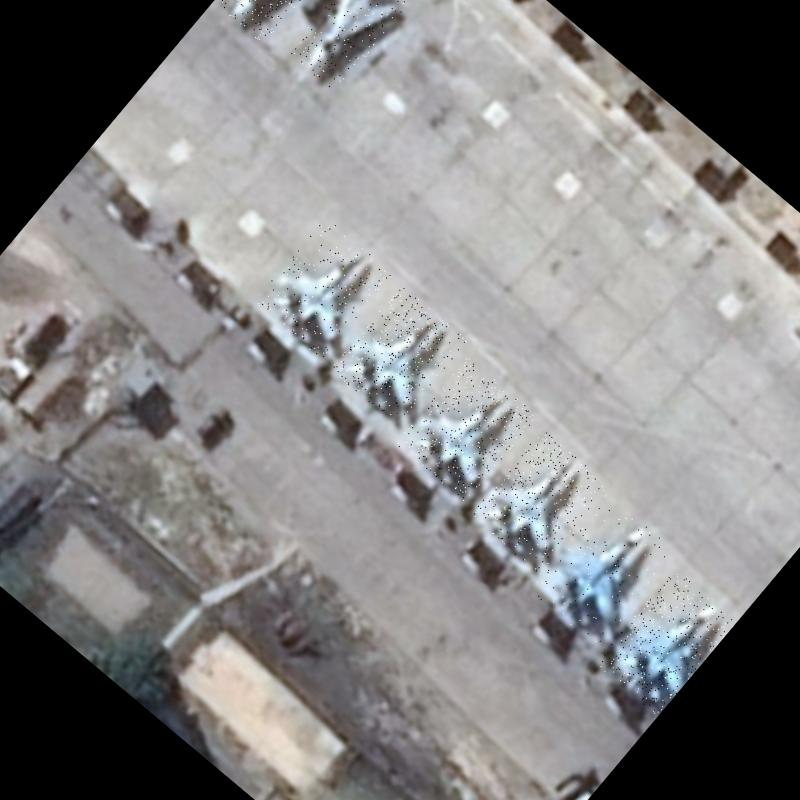A1: (394, 356, 537, 503), (468, 429, 608, 572), (253, 216, 392, 360), (329, 284, 467, 425)
A19: (525, 492, 677, 648), (594, 568, 737, 716)
A20: (285, 0, 410, 93), (215, 0, 339, 44)
